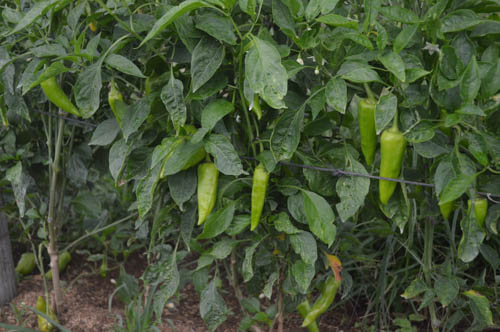ChiliPepper: (375, 132, 405, 202), (304, 277, 339, 328), (41, 80, 83, 118), (247, 165, 270, 231), (196, 165, 219, 230), (358, 102, 379, 163), (105, 96, 129, 124), (297, 300, 317, 328), (468, 197, 485, 222)
